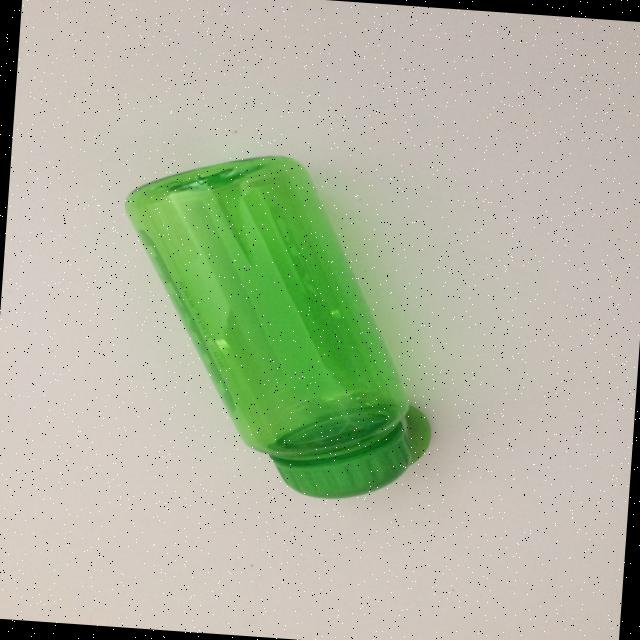plastic: (104, 143, 450, 506)
